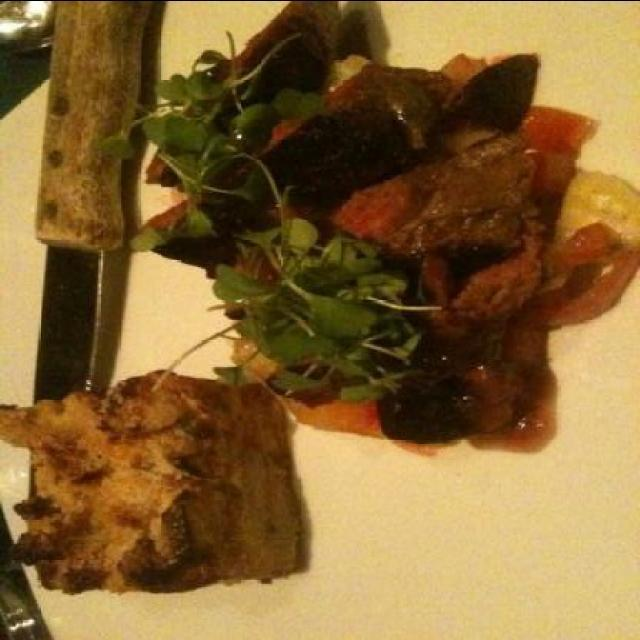Steak: (227, 30, 565, 468)
